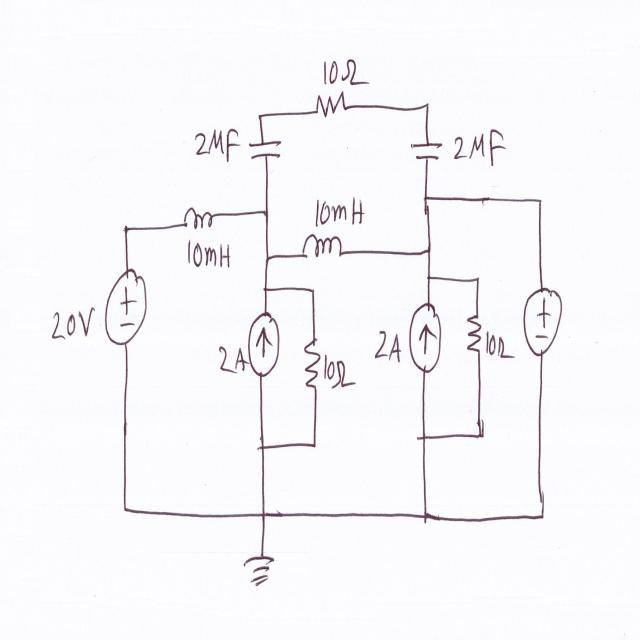capacitor: (408, 132, 446, 168), (247, 138, 284, 163)
current_source: (408, 298, 442, 376), (246, 306, 281, 379)
ground: (243, 554, 277, 590)
inductor: (298, 231, 345, 272), (179, 206, 217, 236)
resistor: (314, 85, 348, 126), (303, 329, 323, 398), (465, 306, 483, 365)
voltage_source: (101, 262, 150, 354), (521, 278, 564, 362)
